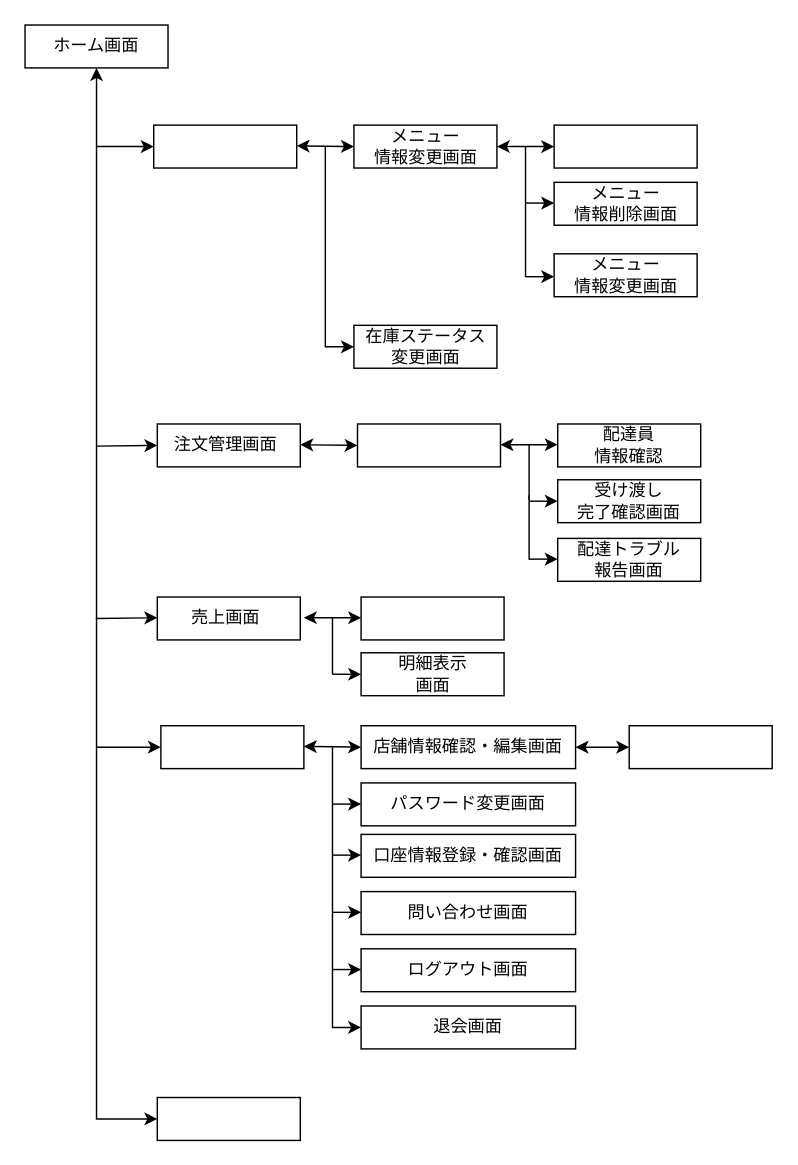
Image size: 798x1165. Some labels were removed from this diagram. The centre of each missing label's shape, as x and y in pixels:
"マイページ" belongs at (231,746).
"メニュー 情報登録画面" belongs at (625,146).
"受注一覧" belongs at (428,445).
"売上数 管理画面" belongs at (432,618).
"業務画面" belongs at (224,146).
"許可書ファイル アップロード" belongs at (700,746).
"通知画面" belongs at (228,1118).
